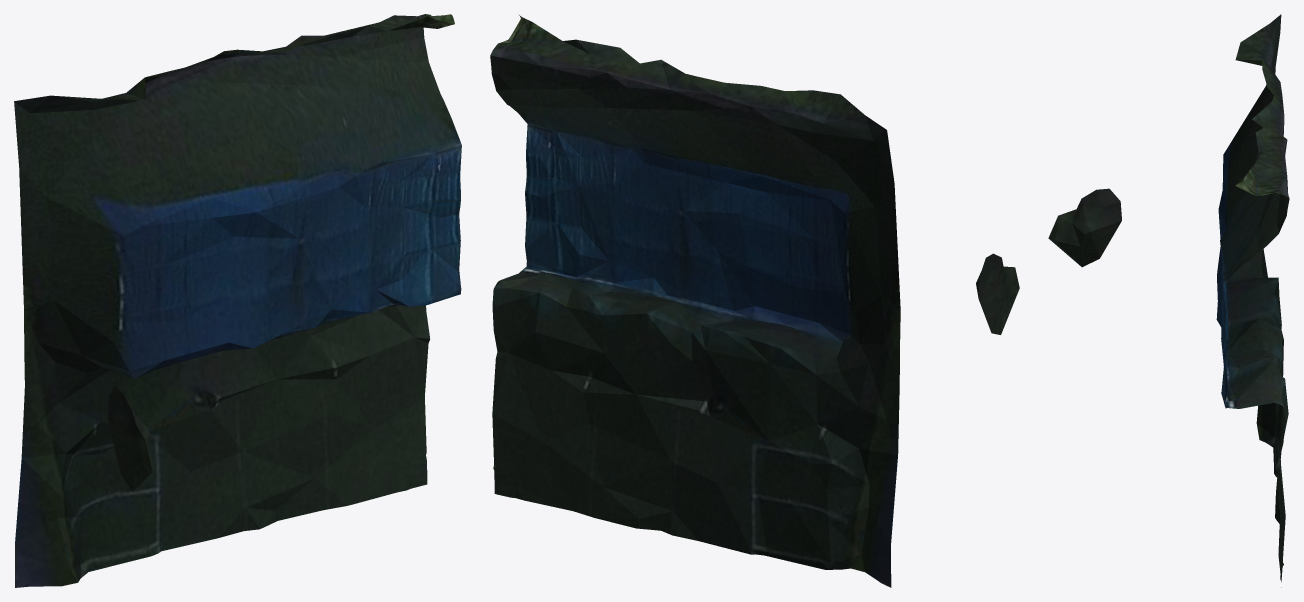
The model's file is tile_3_0_28_tex.obj.
The picture shows the model from 3 angles, left to right: view 1: azimuth 30°, elevation 25°; view 2: azimuth 150°, elevation 25°; view 3: azimuth 270°, elevation 25°; orthographic projection. The views are drawn at different scales.
Visible parts, largest first — view 1: obj_0; view 2: obj_0; view 3: obj_0.
Part boxes in pixels (left/top/right/bottom): obj_0: left=14, top=14, right=461, bottom=587; obj_0: left=490, top=15, right=1019, bottom=587; obj_0: left=1048, top=14, right=1289, bottom=587.
Size of the model in its own units: 20.1 by 22.56 by 12.07.
1 material, 1 textured.
